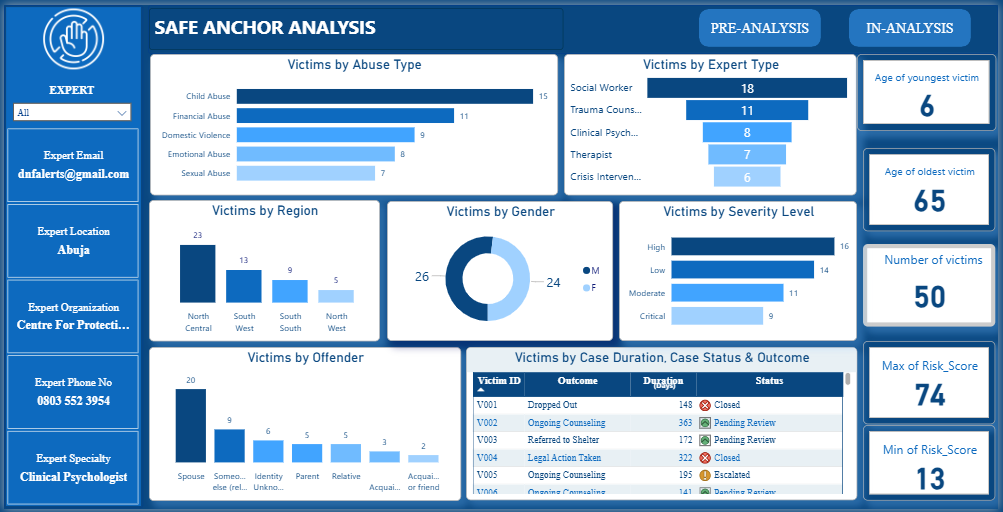

The dashboard page shown, as its layout file describes it:
{"tool":"powerbi","page":{"name":"DASHBAORD","canvas":[1420,720],"ordinal":0},"visuals":[{"type":"clusteredBarChart","title":"Victims by Abuse Type","fields":{"Y":["Count(Abused victims dataset(Sheet1).Victim_ID)"],"Category":["Abused victims dataset(Sheet1).Abuse_Type"]},"box":[208.1,70.7,582.5,201.6],"z":0},{"type":"clusteredColumnChart","title":"Victims by Region","fields":{"Category":["Abused victims dataset(Sheet1).Region"],"Y":["CountNonNull(Abused victims dataset(Sheet1).Victim_ID)"]},"box":[207.7,277.9,330,201.5],"z":1000},{"type":"funnel","title":"Victims by Expert Type","fields":{"Y":["Count(Abused victims dataset(Sheet1).Victim_ID)"],"Category":["Abused victims dataset(Sheet1).Expert_Type"]},"box":[800.1,70.2,418.4,201.5],"z":2000},{"type":"shape","box":[0,0,198.6,718.6],"z":3000},{"type":"clusteredColumnChart","title":"Victims by Offender","fields":{"Category":["Abused victims dataset(Sheet1).Offender"],"Y":["Count(Abused victims dataset(Sheet1).Victim_ID)"]},"box":[207.7,488.6,445.8,219.9],"z":4000},{"type":"cardVisual","fields":{"Data":["Max(Abused victims dataset(Sheet1).Age)"]},"box":[1227.6,204.6,189.3,119.1],"z":5000},{"type":"cardVisual","title":"Age of Youngest Victim","fields":{"Data":["Min(Abused victims dataset(Sheet1).Age)"]},"box":[1218.8,70.7,199,110],"z":6000},{"type":"cardVisual","fields":{"Data":["Max(Abused victims dataset(Sheet1).Risk_Score)"]},"box":[1227.6,479.4,189.3,119.1],"z":7000},{"type":"card","title":"Number of victims","fields":{"Values":["Count(Abused victims dataset(Sheet1).Victim_ID)"]},"box":[1227.6,342,189.3,117.6],"z":8000},{"type":"cardVisual","fields":{"Data":["Min(Abused victims dataset(Sheet1).Risk_Score)"]},"box":[1227.6,600.1,189.3,108.4],"z":9000},{"type":"slicer","title":"EXPERT","fields":{"Values":["Abuse experts Head_Shots.Assigned_Expert"]},"box":[2.9,112.9,188.6,68.6],"z":10000},{"type":"cardVisual","fields":{"Data":["Min(EXPERTS_INFO.Expert_email)","Min(EXPERTS_INFO.Expert_Location)","Min(EXPERTS_INFO.Expert_Organization)","Min(EXPERTS_INFO.Expert_Phone_Number)","Min(EXPERTS_INFO.Expert_Specialty)"]},"box":[0,171.6,198,549],"z":11000},{"type":"shape","box":[206.1,0,1213.9,70.2],"z":12000},{"type":"textbox","box":[207.7,4.6,592.4,59.5],"z":13000},{"type":"actionButton","box":[992.9,5.7,174.3,54.3],"z":14000},{"type":"actionButton","box":[1207.1,5.7,174.3,54.3],"z":15000},{"type":"donutChart","title":"Victims by Gender","fields":{"Category":["Abused victims dataset(Sheet1).Gender"],"Y":["Count(Abused victims dataset(Sheet1).Victim_ID)"]},"box":[547.3,279.7,323,200],"z":16000},{"type":"image","box":[0,0,198.6,97.1],"z":17000},{"type":"tableEx","title":"Victims by Case Duration, Case Status & Outcome","fields":{"Values":["Abused victims dataset(Sheet1).Victim_ID","Abused victims dataset(Sheet1).Outcome","Sum(Abused victims dataset(Sheet1).Case_Duration_Days)","Abused victims dataset(Sheet1).Case_Status"]},"box":[659.8,488.3,559,218.6],"z":18000},{"type":"barChart","title":"Victims by Severity Level","fields":{"Category":["Abused victims dataset(Sheet1).Severity_Level"],"Y":["CountNonNull(Abused victims dataset(Sheet1).Victim_ID)"]},"box":[878,279.4,340.5,200],"z":19000},{"type":"textbox","box":[922.9,528.9,104.7,41.9],"z":20000}]}

Visuals, with their boxes in screenshot pixels (x1, y1, x2, y2), scaled from the page's 1420x720 canvas onto the 1003x512 screenshot:
"Victims by Abuse Type" clusteredBarChart: box(147, 50, 558, 194)
"Victims by Region" clusteredColumnChart: box(147, 198, 380, 341)
"Victims by Expert Type" funnel: box(565, 50, 861, 193)
shape: box(0, 0, 140, 511)
"Victims by Offender" clusteredColumnChart: box(147, 347, 462, 504)
cardVisual - Max(Abused victims dataset(Sheet1).Age): box(867, 145, 1001, 230)
"Age of Youngest Victim" cardVisual: box(861, 50, 1001, 128)
cardVisual - Max(Abused victims dataset(Sheet1).Risk_Score): box(867, 341, 1001, 426)
"Number of victims" card: box(867, 243, 1001, 327)
cardVisual - Min(Abused victims dataset(Sheet1).Risk_Score): box(867, 427, 1001, 504)
"EXPERT" slicer: box(2, 80, 135, 129)
cardVisual - Min(EXPERTS_INFO.Expert_email) x Min(EXPERTS_INFO.Expert_Location): box(0, 122, 140, 511)
shape: box(146, 0, 1002, 50)
textbox: box(147, 3, 565, 46)
actionButton: box(701, 4, 824, 43)
actionButton: box(853, 4, 976, 43)
"Victims by Gender" donutChart: box(387, 199, 615, 341)
image: box(0, 0, 140, 69)
"Victims by Case Duration, Case Status & Outcome" tableEx: box(466, 347, 861, 503)
"Victims by Severity Level" barChart: box(620, 199, 861, 341)
textbox: box(652, 376, 726, 406)
